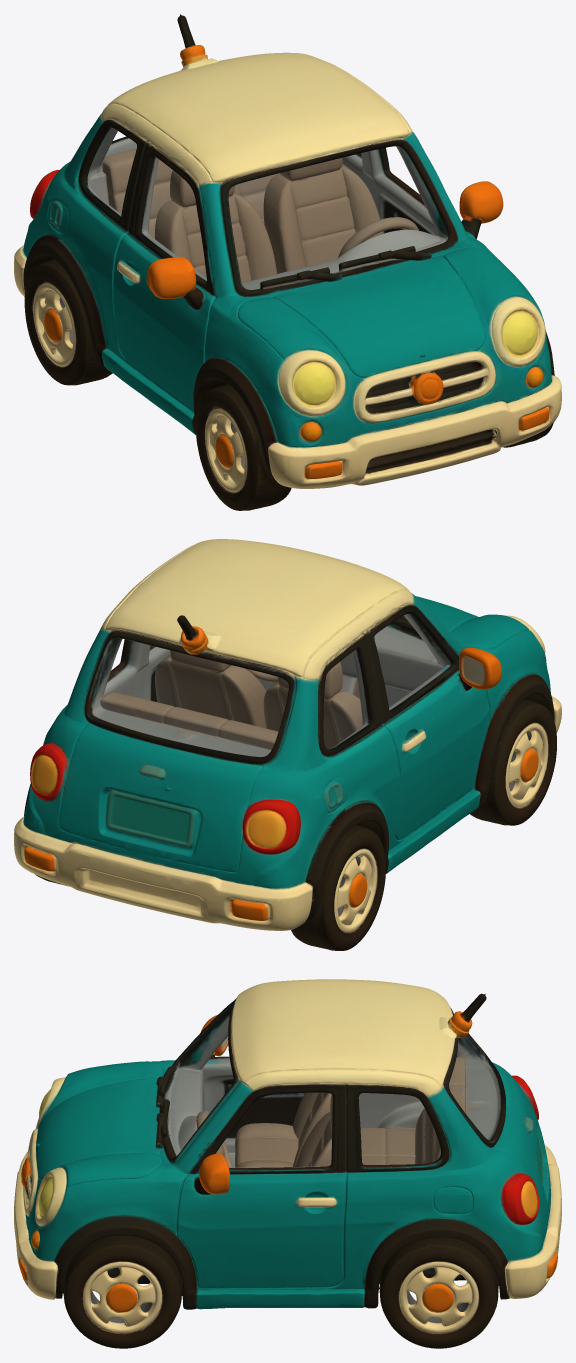
The model's file is StylizedCar.fbx.
The picture shows the model from 3 angles, top to bottom: view 1: azimuth 30°, elevation 25°; view 2: azimuth 150°, elevation 25°; view 3: azimuth 270°, elevation 25°; orthographic projection. The views are drawn at different scales.
Visible parts, largest first — view 1: tripo_node_2e415f19-af50-4838-8b68-cb318ab44c98; view 2: tripo_node_2e415f19-af50-4838-8b68-cb318ab44c98; view 3: tripo_node_2e415f19-af50-4838-8b68-cb318ab44c98.
Part boxes in pixels (box(x1,y1,x2,y2)): tripo_node_2e415f19-af50-4838-8b68-cb318ab44c98: box(14, 14, 561, 510); tripo_node_2e415f19-af50-4838-8b68-cb318ab44c98: box(14, 539, 561, 950); tripo_node_2e415f19-af50-4838-8b68-cb318ab44c98: box(14, 979, 561, 1348).
Bounding box in the file's own units: 66.21 × 57.1 × 97.84.
1 material, 1 textured.
